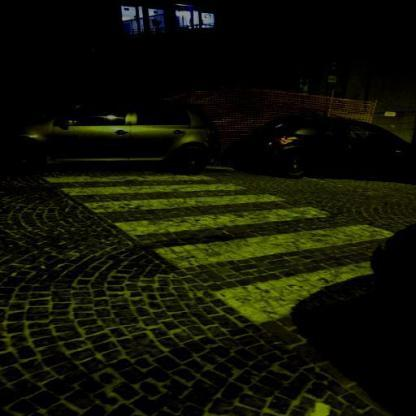crosswalk: (76, 190, 332, 240)
